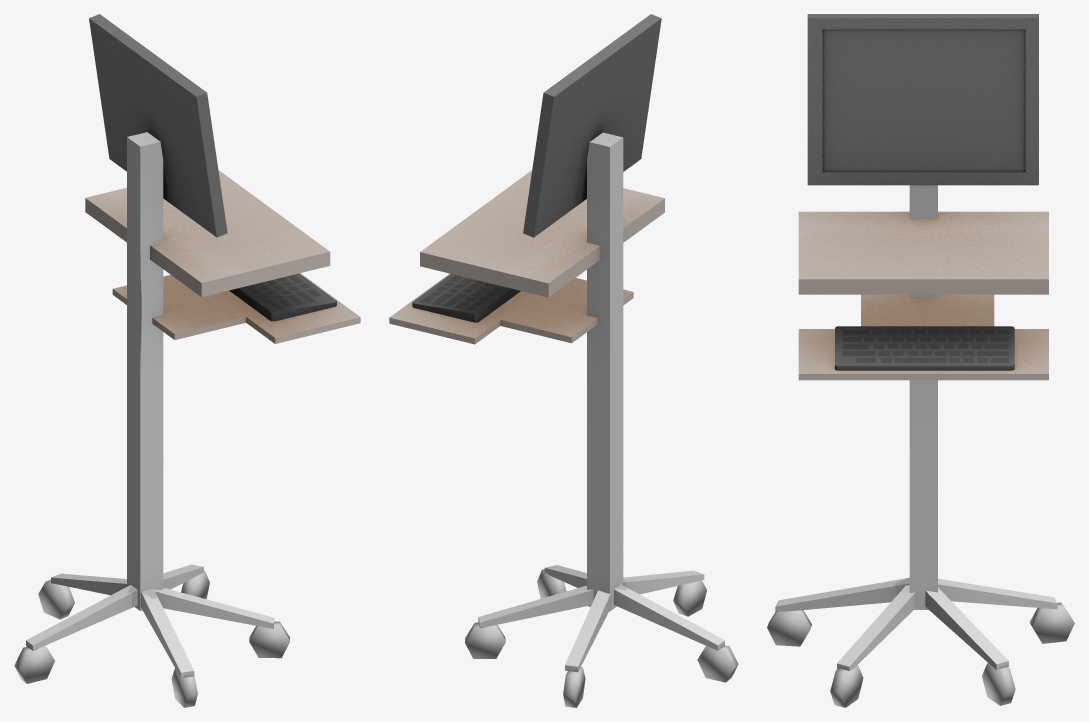
The model's file is mesh_computer2.obj.
3 views of the same model, side by side, from view 1: azimuth 30°, elevation 25°; view 2: azimuth 150°, elevation 25°; view 3: azimuth 270°, elevation 25° (orthographic). The views are drawn at different scales.
Visible parts, largest first — view 1: Cube.008_Cube.011, Cylinder.001; view 2: Cube.008_Cube.011, Cylinder.001; view 3: Cube.008_Cube.011, Cylinder.001.
Boxes of the visible parts, x1,y1,x2,y2 form: Cube.008_Cube.011: (26,14,360,678); Cylinder.001: (14,570,289,707); Cube.008_Cube.011: (389,14,724,672); Cylinder.001: (465,569,738,707); Cube.008_Cube.011: (775,14,1057,670); Cylinder.001: (767,602,1074,707).
Bounding box in the file's own units: 2.94 × 5.83 × 2.54.
